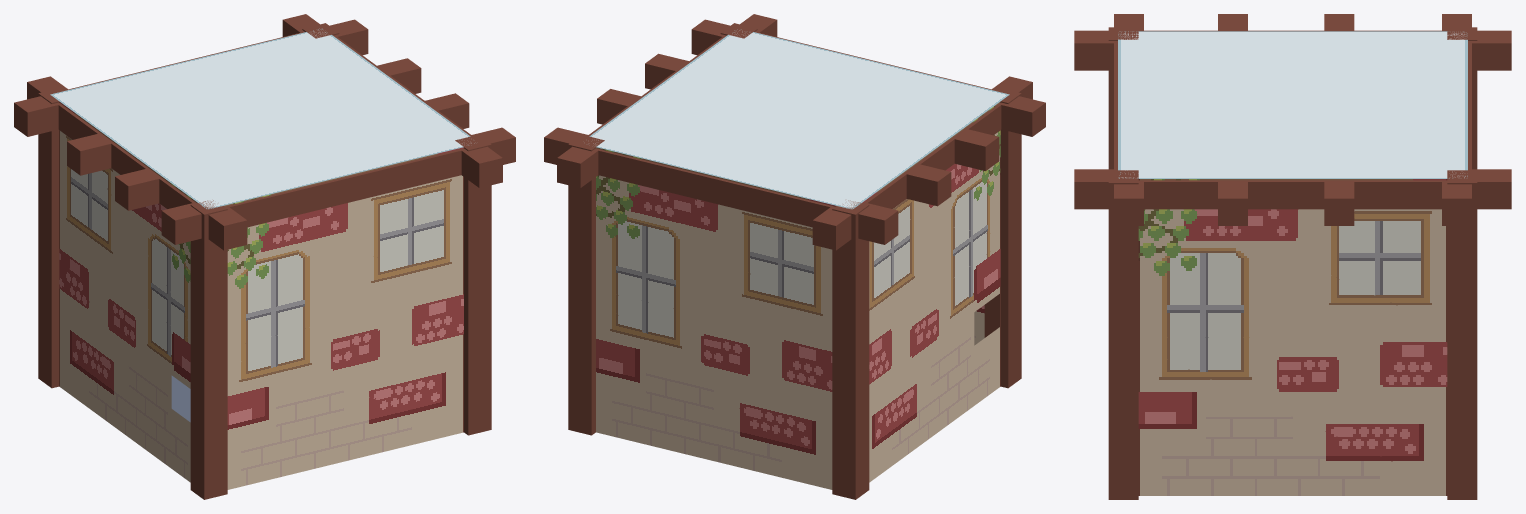
The model's file is OldTown_HouseBody1_gltf.gltf.
3 views of the same model, side by side, from view 1: azimuth 30°, elevation 25°; view 2: azimuth 150°, elevation 25°; view 3: azimuth 270°, elevation 25° (orthographic). The views are drawn at different scales.
Parts seen in each view (by area): view 1: housebody, housesupportbeams (×9); view 2: housebody, housesupportbeams (×9); view 3: housebody, housesupportbeams (×10).
Part boxes in pixels (<box>): housebody: <box>50,28,474,489</box>; housesupportbeams (×9): <box>14,14,515,499</box>; housebody: <box>589,29,1009,489</box>; housesupportbeams (×9): <box>544,14,1045,499</box>; housebody: <box>1118,31,1467,495</box>; housesupportbeams (×10): <box>1074,14,1511,499</box>.
Bounding box in the file's own units: 10 × 8 × 10.
2 materials, 2 textured.
